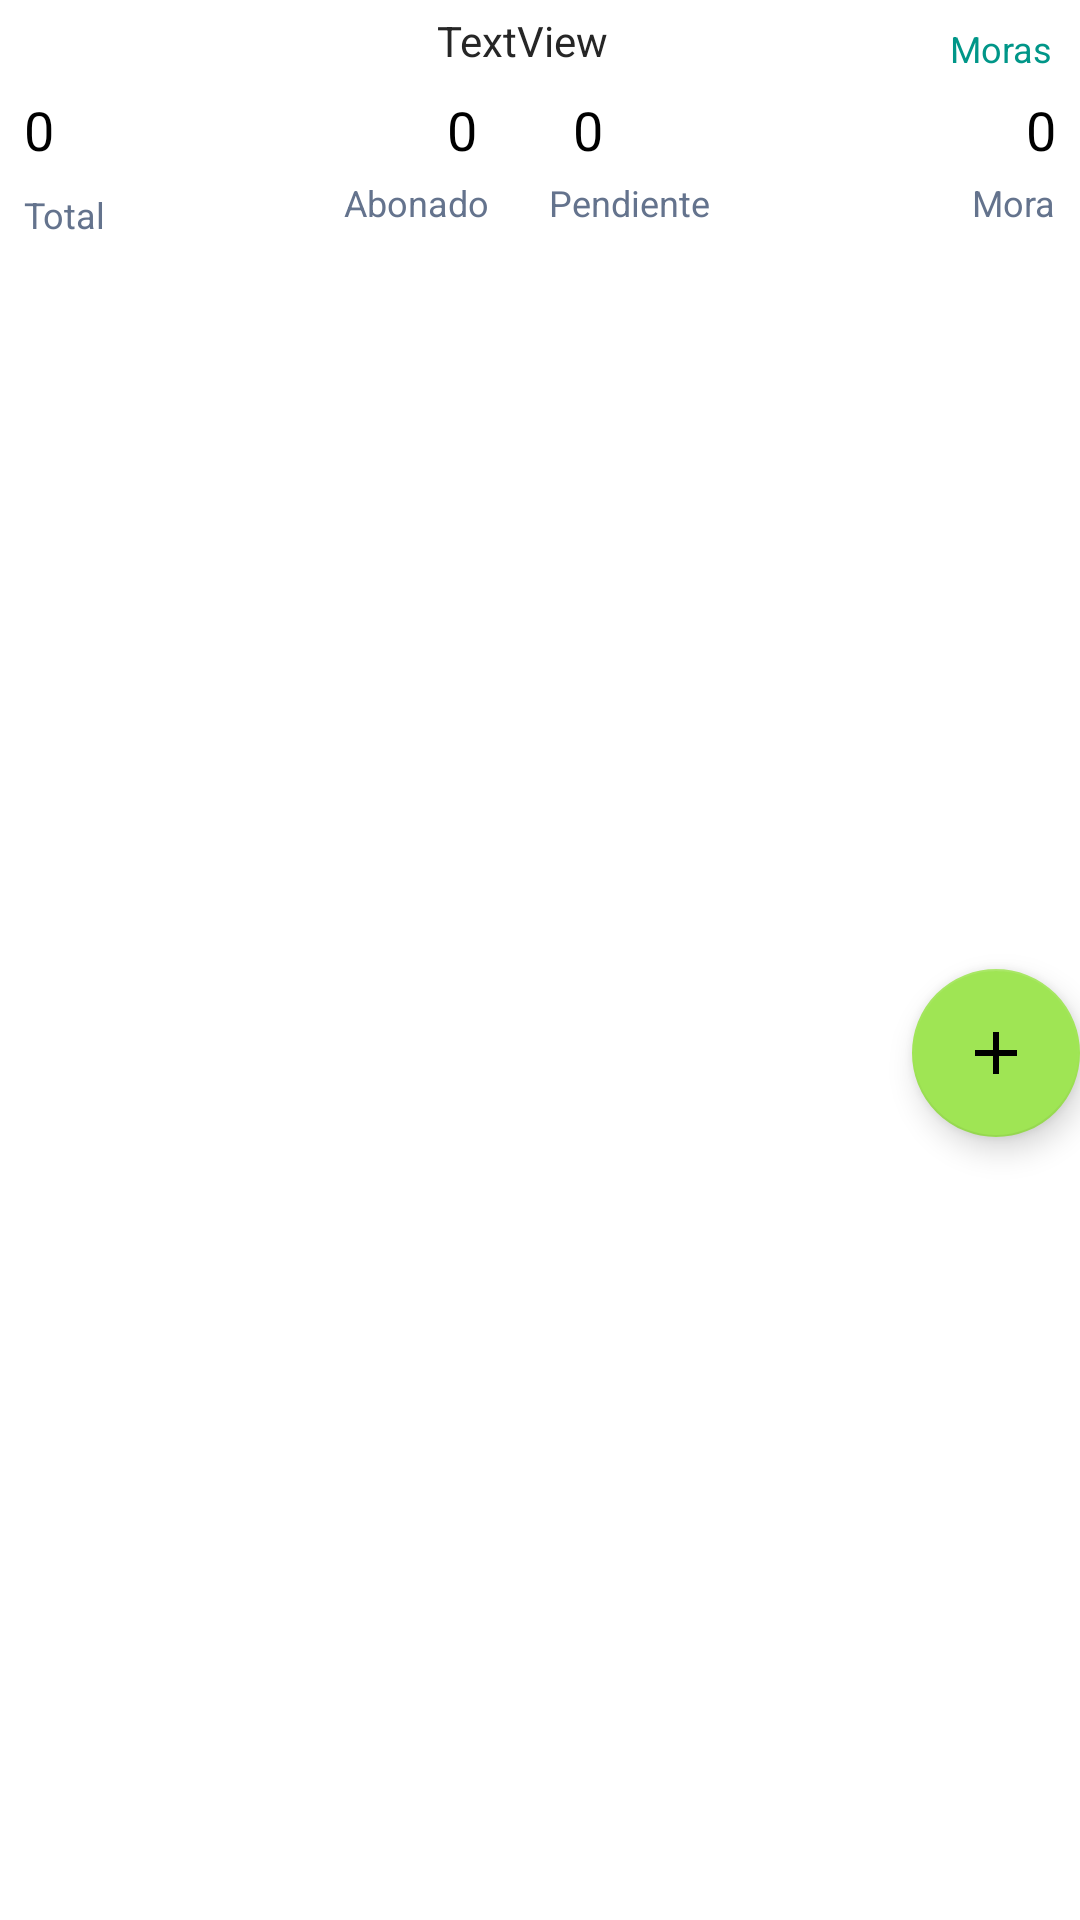

Screen size 1080*1920. Icon name, then its box in pixels as (left=x1, top=y1, right=x2, bottom=y2):
mas: (left=912, top=969, right=1080, bottom=1137)
